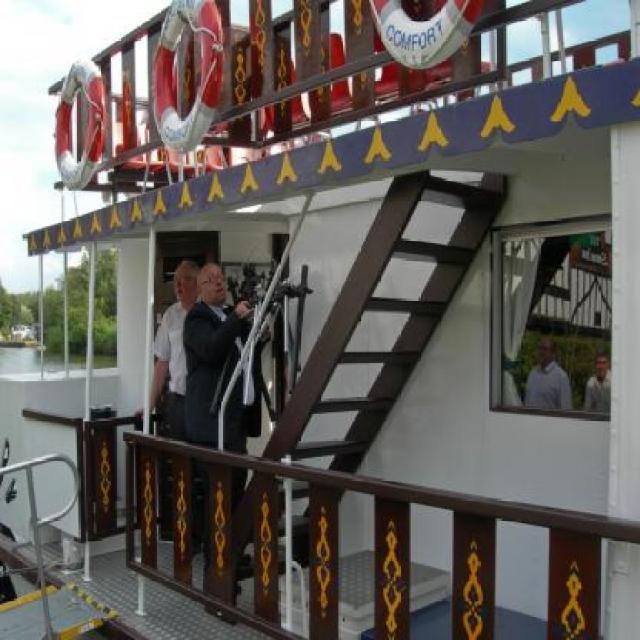stair: (235, 166, 508, 583)
